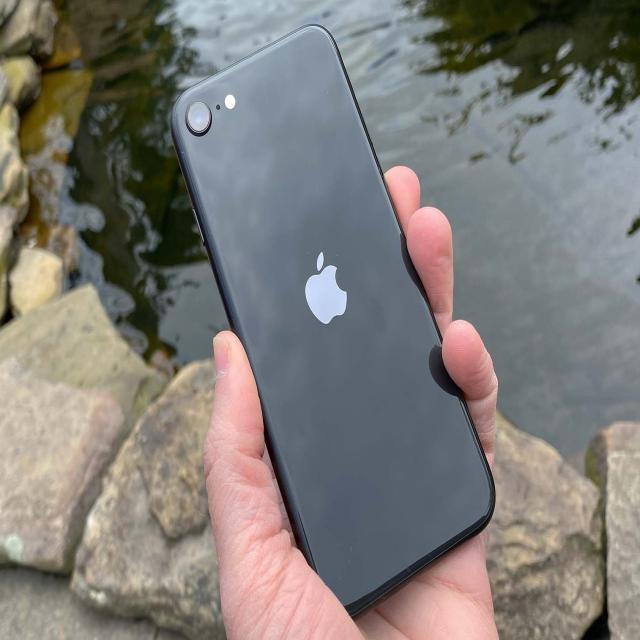mobile phone: (168, 22, 497, 619)
